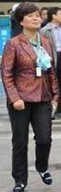boots: (38, 168, 52, 184), (13, 182, 25, 192)
hard-hat: (52, 0, 61, 8)
